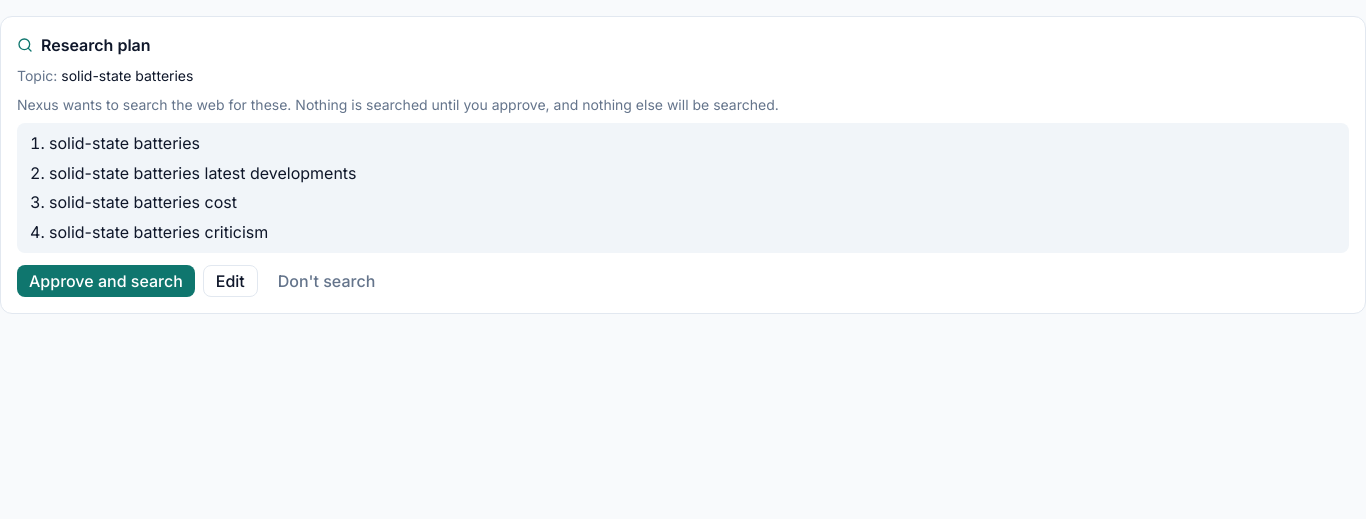
Test: ResearchPlanCard › goes back to the proposed queries when editing is cancelled
Click the button "Edit" at (230, 281), box [203,265,258,297]
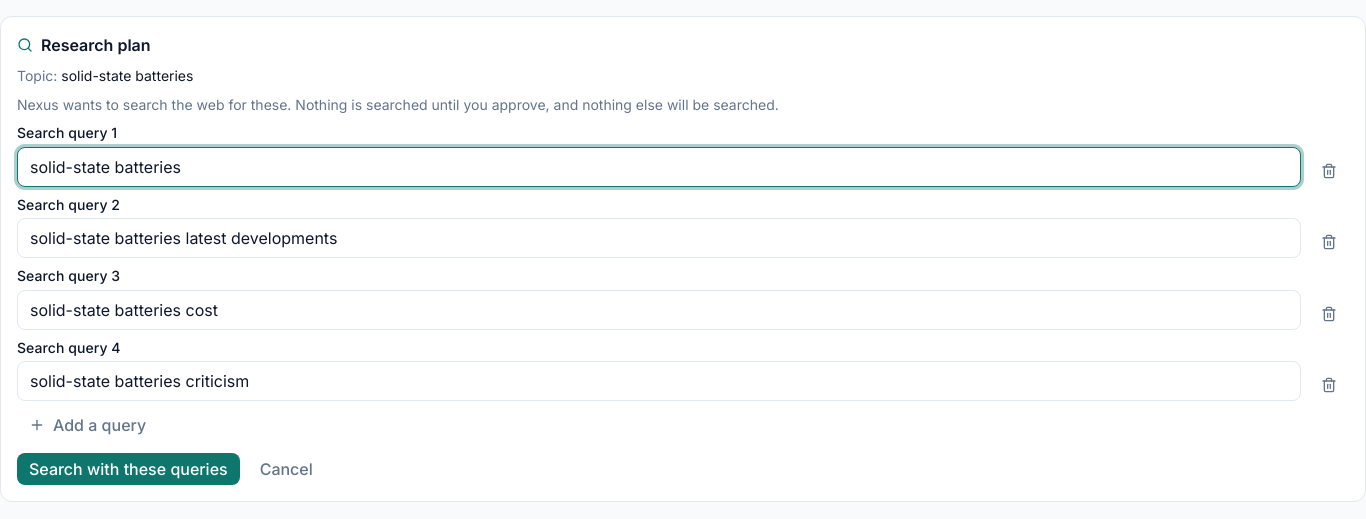
Type " changed" into the field labelled "Search query 1" at (659, 167), box [17,147,1301,187]
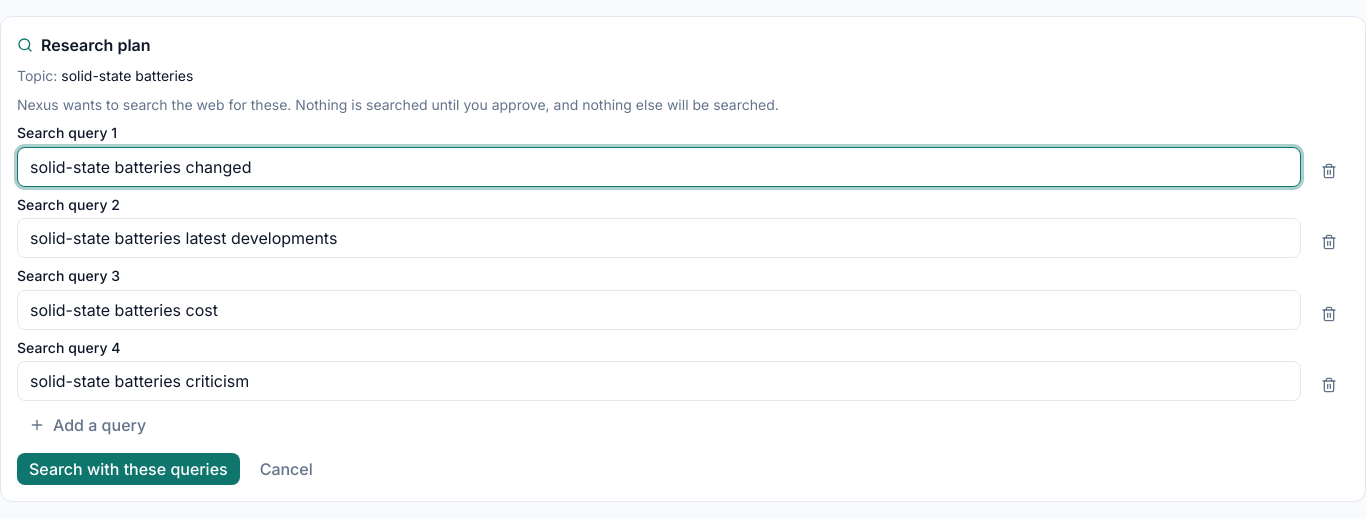
Click the button "Cancel" at (286, 469), box [248,453,325,485]
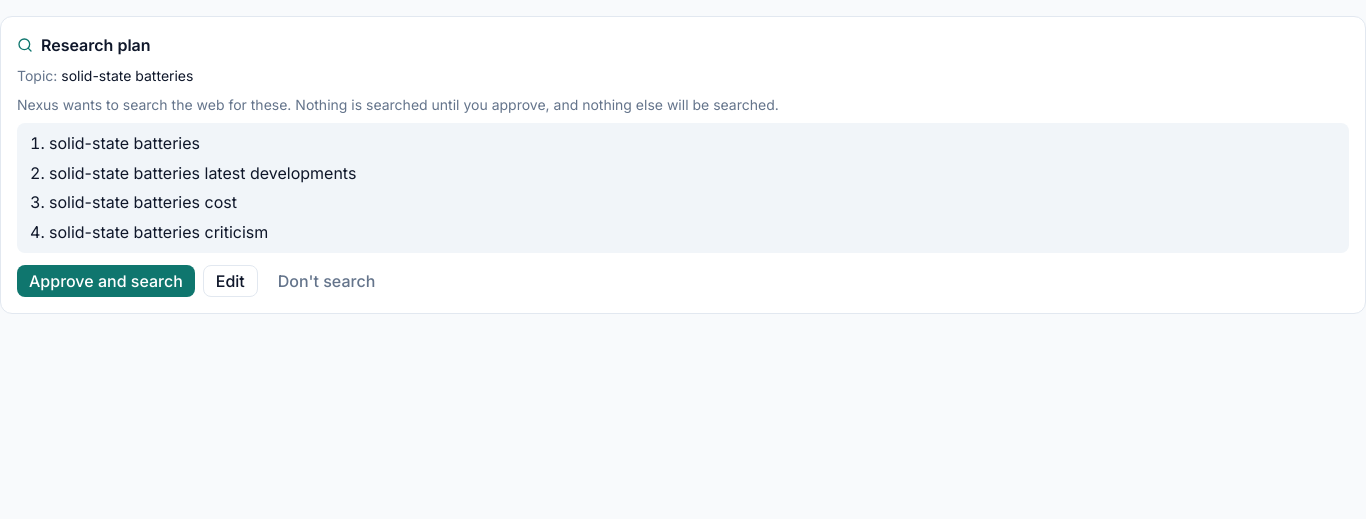
Check: the list items read "solid-state batteries", "solid-state batteries latest developments", "solid-state batteries cost", "solid-state batteries criticism", in this order, box [49,133,200,153]; [49,163,356,183]; [49,192,237,212]; [49,222,268,242]
Click the button "Edit" at (230, 281), box [203,265,258,297]
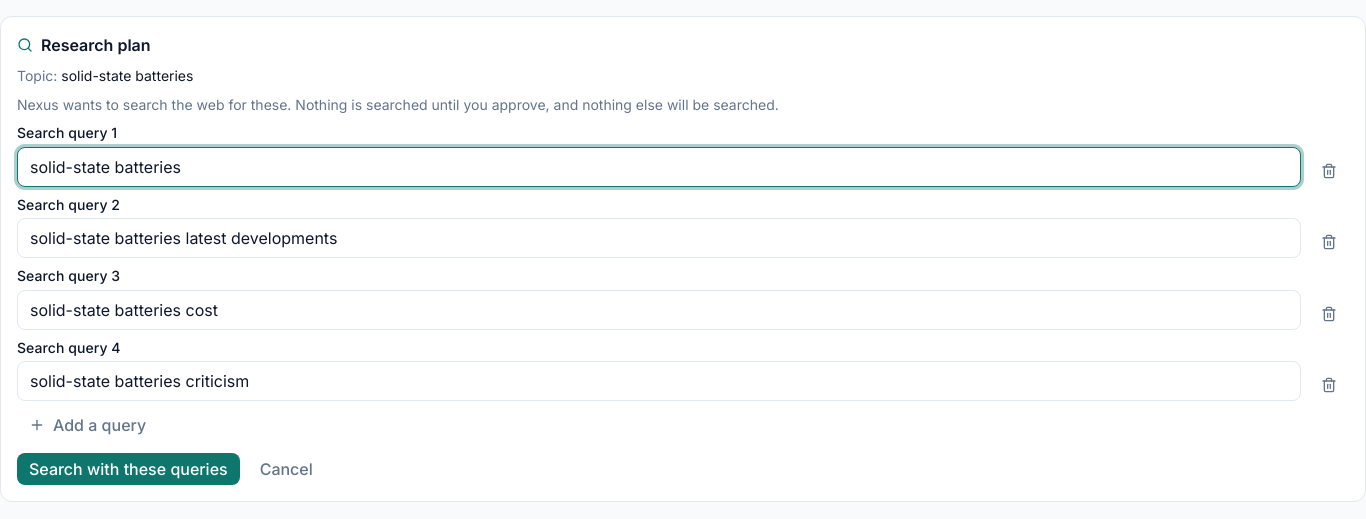
Check: the field labelled "Search query 1" holds "solid-state batteries", box [17,147,1301,187]
